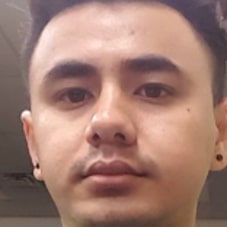awake: (40, 41, 197, 198)
